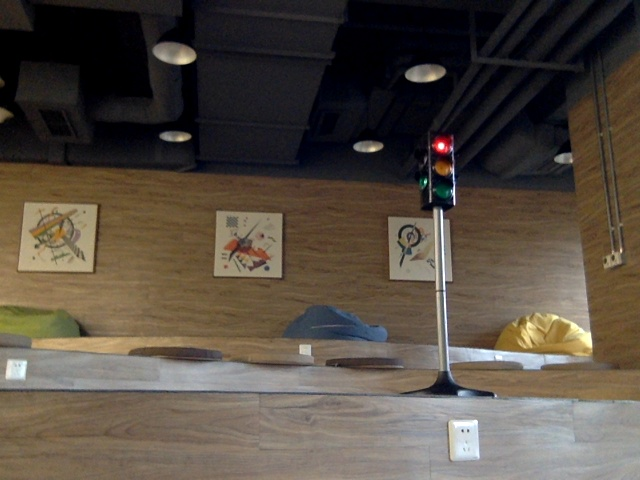red: (425, 138, 455, 198)
